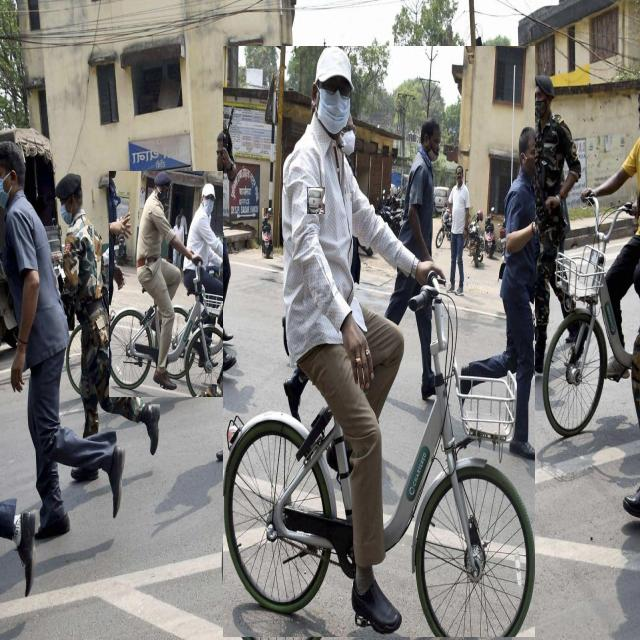bicycle: (223, 47, 534, 637), (542, 138, 640, 436), (109, 171, 225, 397)
car: (307, 187, 324, 214)
motorcycle: (272, 211, 290, 266), (305, 209, 321, 248), (262, 209, 272, 259), (251, 220, 259, 256), (254, 271, 258, 279)
